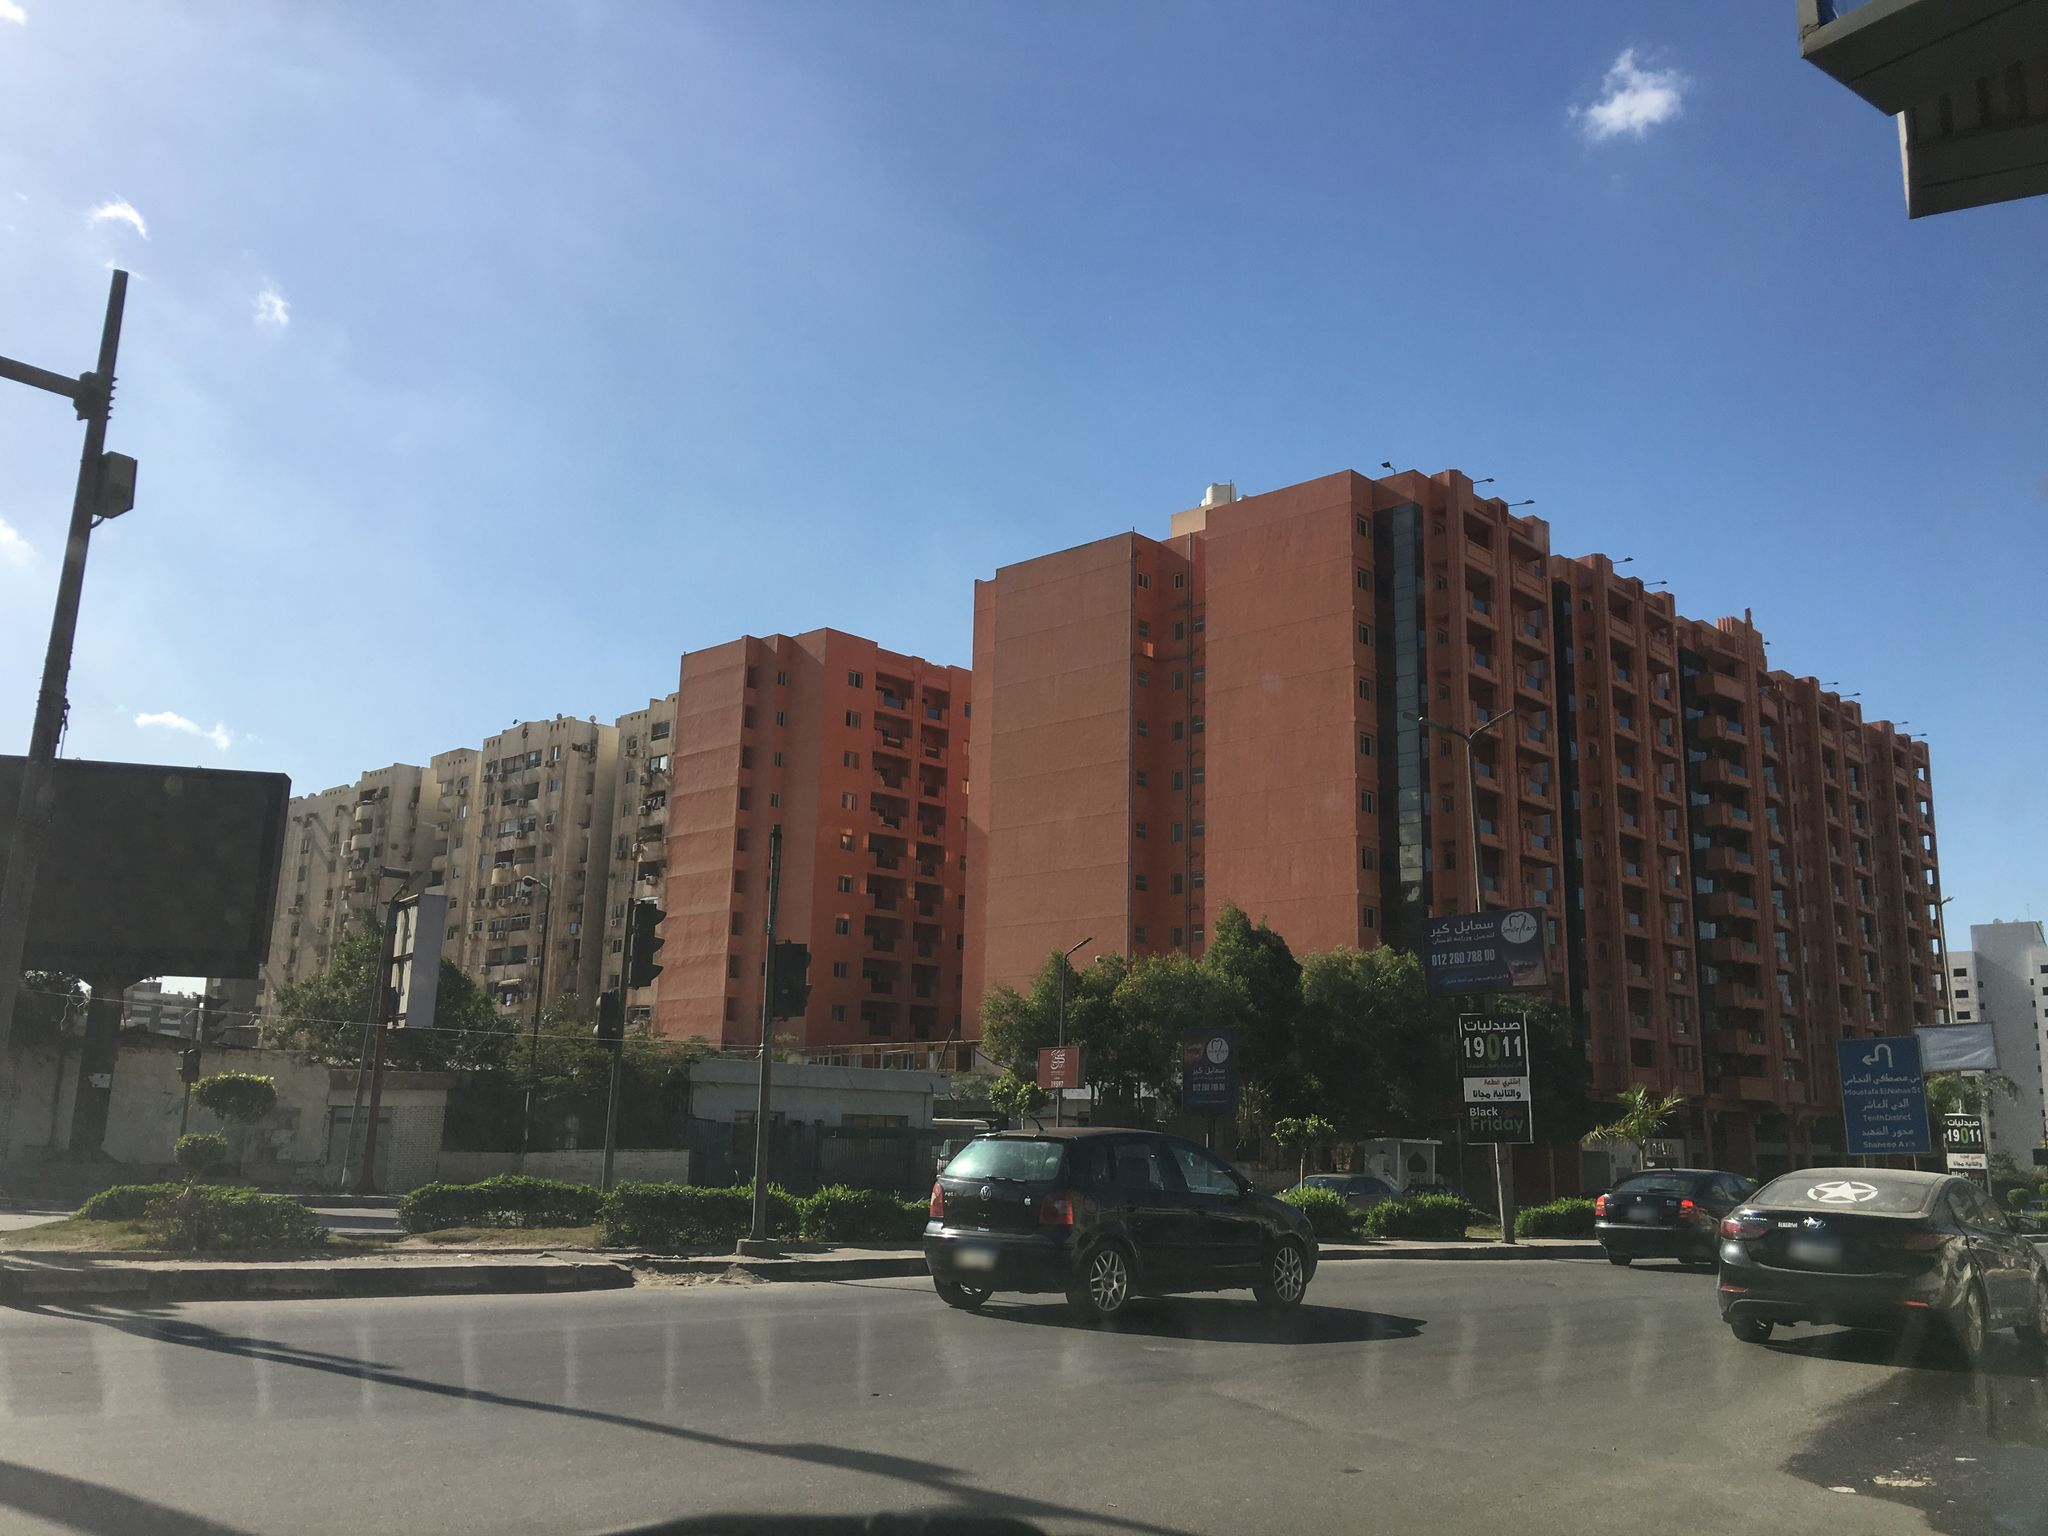car: (924, 1121, 1322, 1320), (1716, 1167, 2048, 1357), (1593, 1167, 1756, 1265), (1284, 1171, 1401, 1213)
